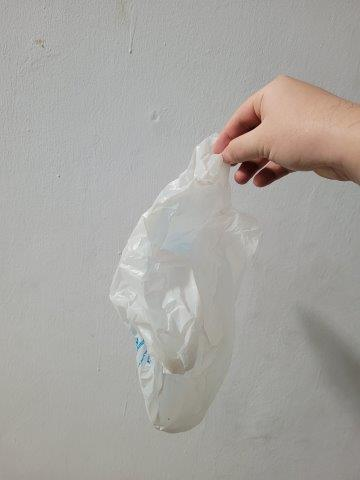plastik: (107, 133, 264, 435)
